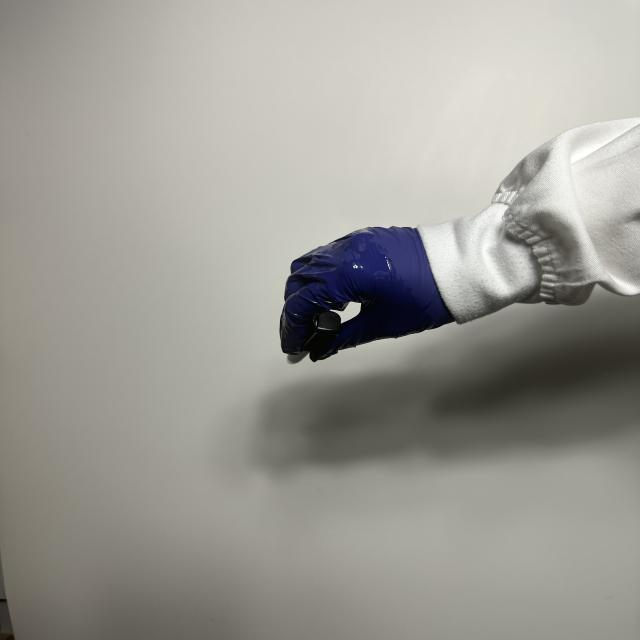gloves_contaminated: (278, 227, 453, 366)
